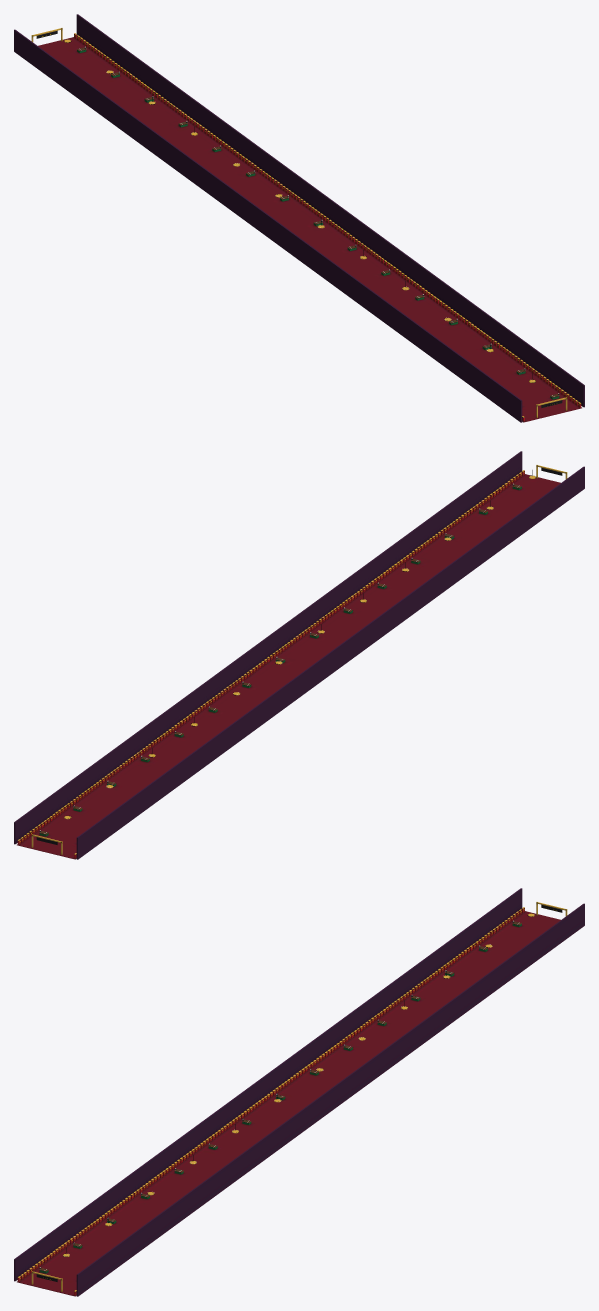
File: casino_floor.glb
The picture shows the model from 3 angles, top to bottom: view 1: azimuth 30°, elevation 25°; view 2: azimuth 150°, elevation 25°; view 3: azimuth 330°, elevation 25°; orthographic projection.
Parts seen in each view (by area): view 1: casino_floor; view 2: casino_floor; view 3: casino_floor.
Part boxes in pixels (x1,y1,x2,y2): casino_floor: (14, 14, 584, 422); casino_floor: (14, 451, 584, 859); casino_floor: (14, 888, 584, 1296).
Size of the model in its own units: 30.6 by 12.2 by 420.
Materials: 1 (1 with a texture image).
